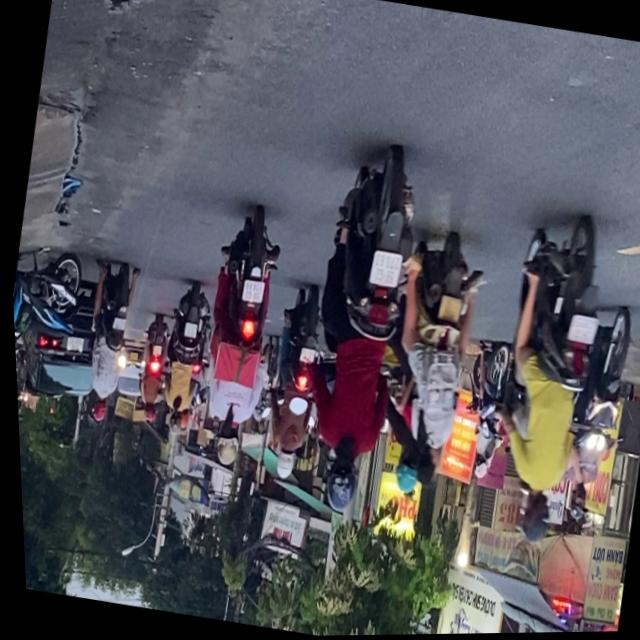helmet: (315, 449, 361, 517), (511, 488, 552, 549), (387, 449, 419, 498), (208, 422, 239, 468), (561, 485, 587, 525), (269, 448, 293, 481), (87, 396, 106, 425)
licenseplate: (274, 139, 441, 524), (466, 206, 622, 556), (362, 225, 496, 506), (178, 204, 296, 474), (546, 302, 640, 530), (250, 283, 334, 485), (68, 258, 143, 427)
motorcyclist: (409, 448, 438, 491)
nohelmet: (364, 250, 401, 290), (563, 317, 595, 348), (434, 297, 461, 324), (237, 280, 262, 305), (296, 349, 312, 365), (109, 316, 123, 332)
